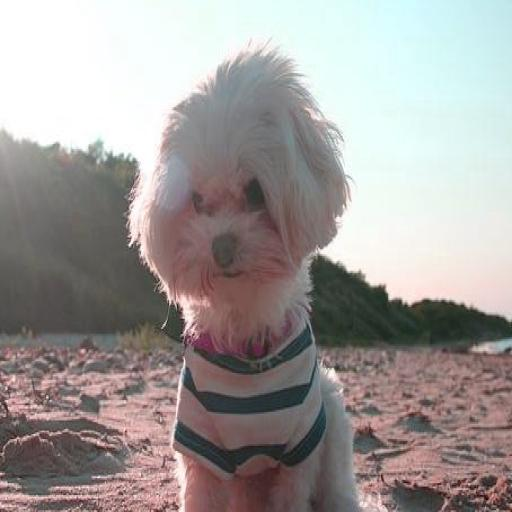dog_face: (136, 58, 333, 308)
